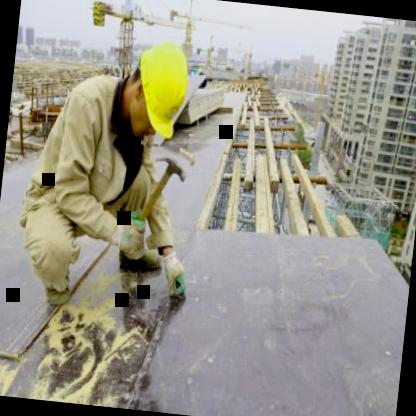helmet: (116, 27, 201, 148)
